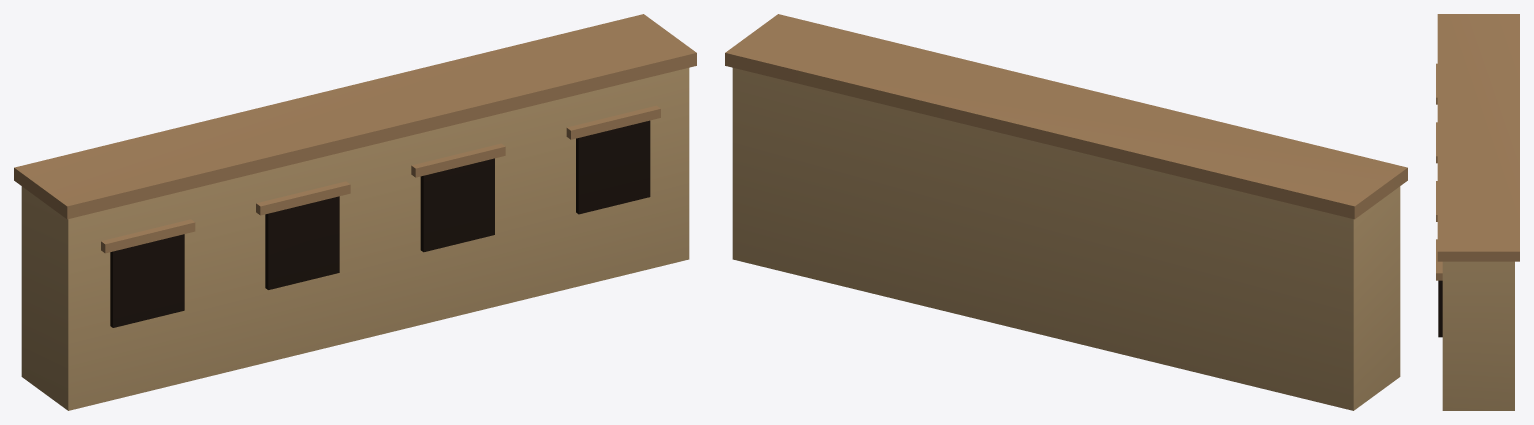
File: moche_niche_wall_lod0.glb
3 renders of one model, left to right at view 1: azimuth 30°, elevation 25°; view 2: azimuth 150°, elevation 25°; view 3: azimuth 270°, elevation 25°, orthographic. The views are drawn at different scales.
Parts seen in each view (by area): view 1: GEO-Arch_moche_niche_wall_LOD0; view 2: GEO-Arch_moche_niche_wall_LOD0; view 3: GEO-Arch_moche_niche_wall_LOD0.
Boxes of the visible parts, left/top/right/bottom form: GEO-Arch_moche_niche_wall_LOD0: left=14, top=14, right=696, bottom=410; GEO-Arch_moche_niche_wall_LOD0: left=725, top=14, right=1407, bottom=410; GEO-Arch_moche_niche_wall_LOD0: left=1436, top=14, right=1519, bottom=410.
Bounding box in the file's own units: 10.14 × 3.2 × 1.51.
